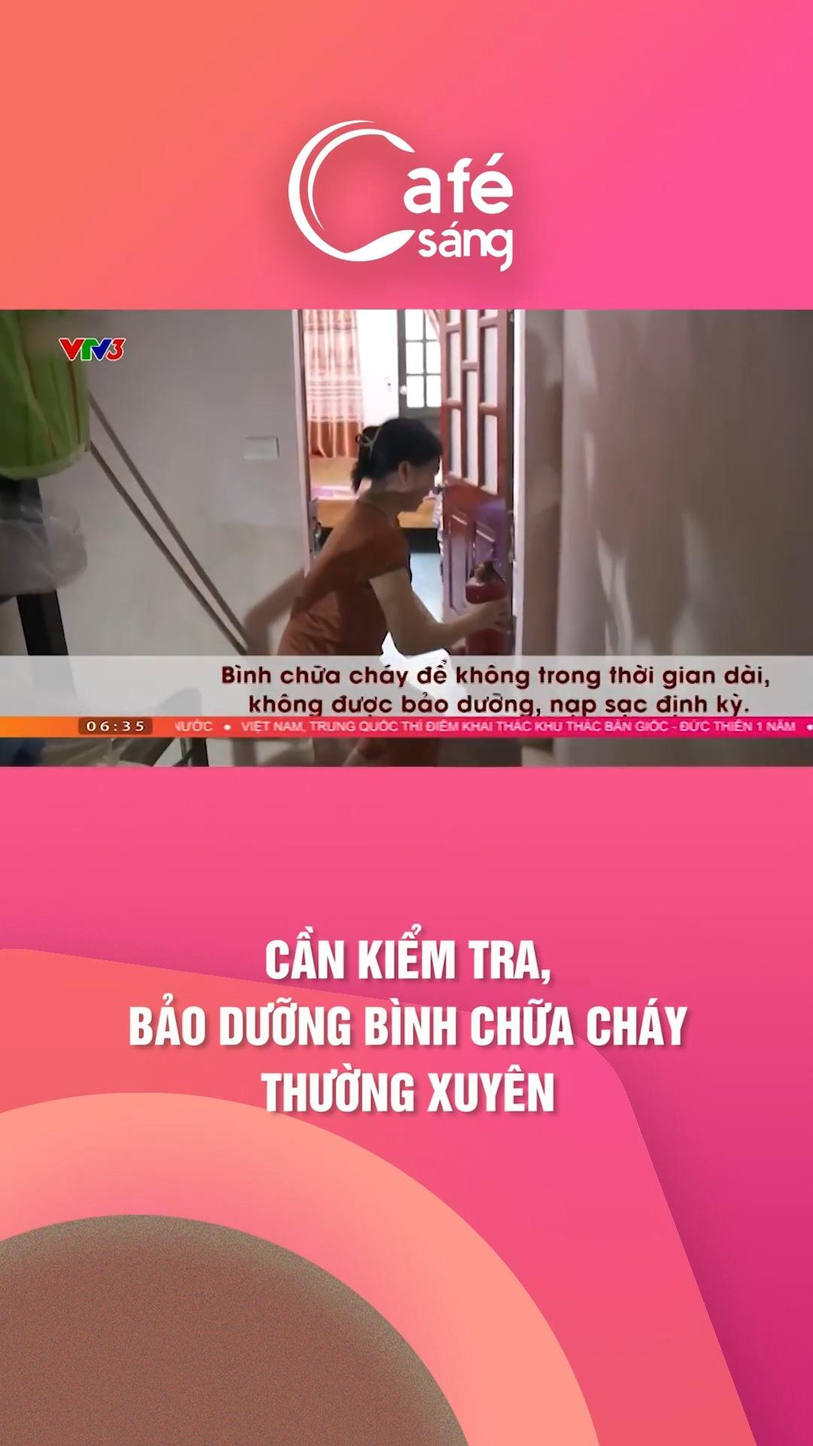not: (235, 411, 456, 714), (431, 460, 547, 650)
